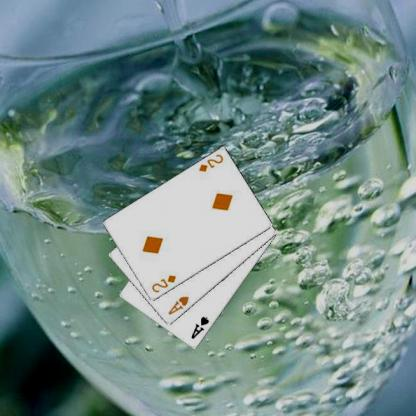2D: (149, 272, 177, 295), (196, 151, 224, 174)
AH: (166, 293, 190, 317)
AS: (188, 314, 211, 340)
